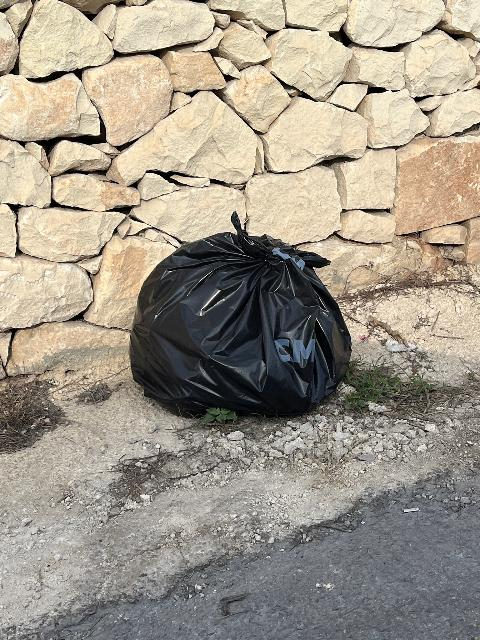Mixed -Black-: (130, 230, 351, 415)
